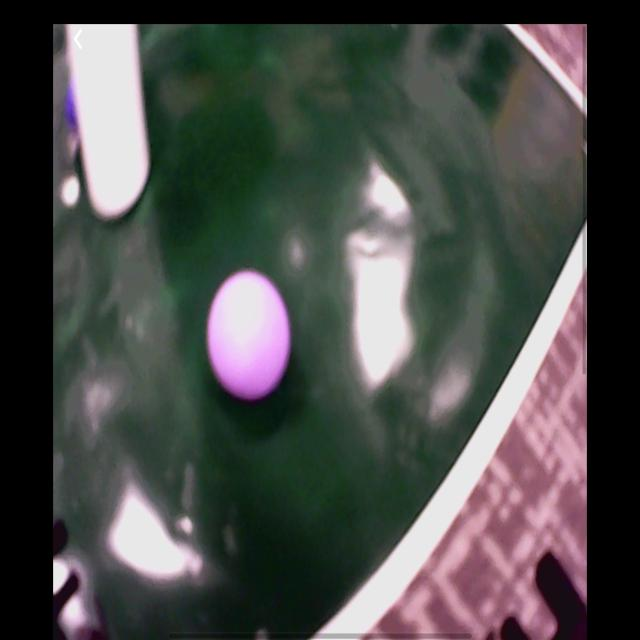ball: (209, 273, 291, 396), (65, 86, 78, 131)
